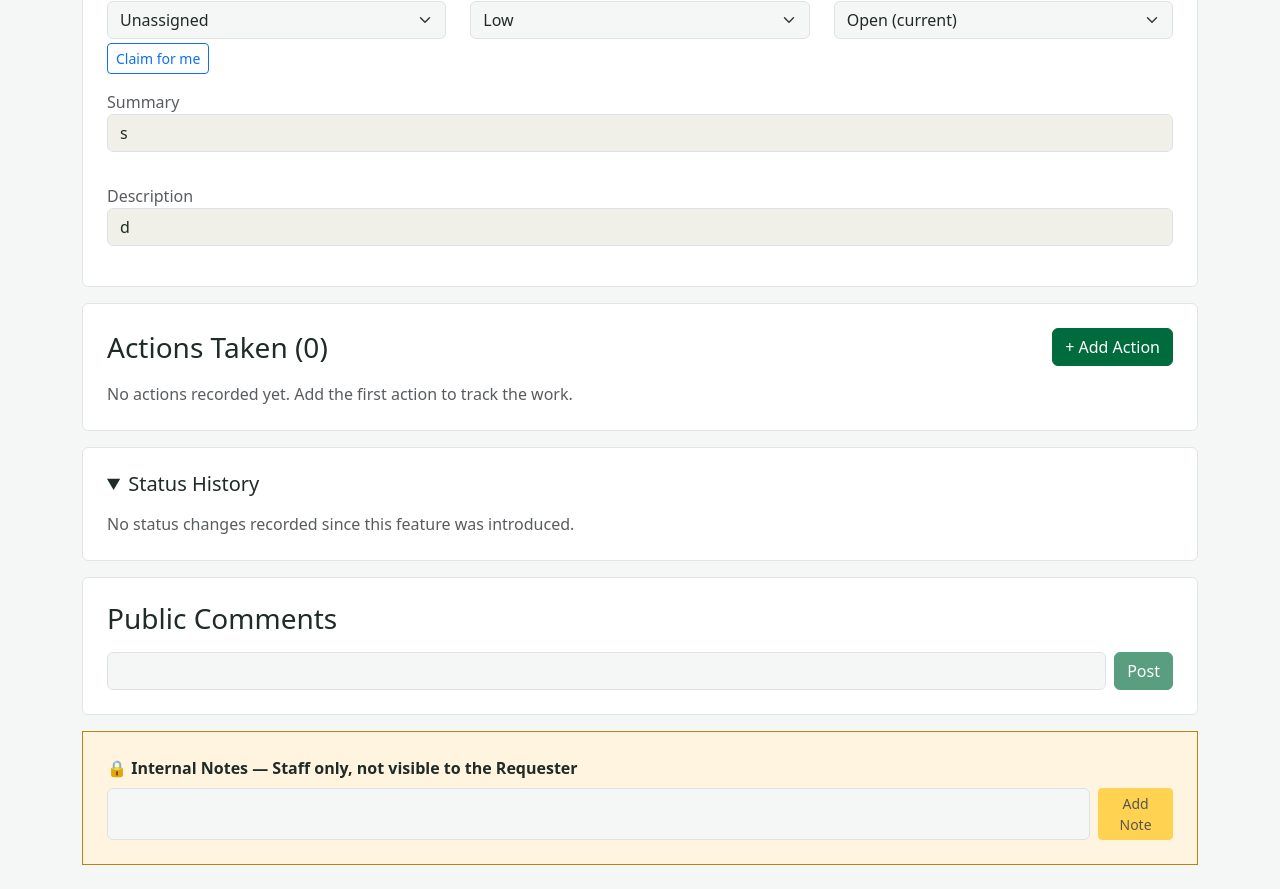
Scenario: Final hardening › sends a staff Internal Note once on a double click (FR-19)
(page scrolled)
In the field with test id "note-input": (599, 814) x1=107 y1=788 x2=1090 y2=840, type "Escalated to network team"
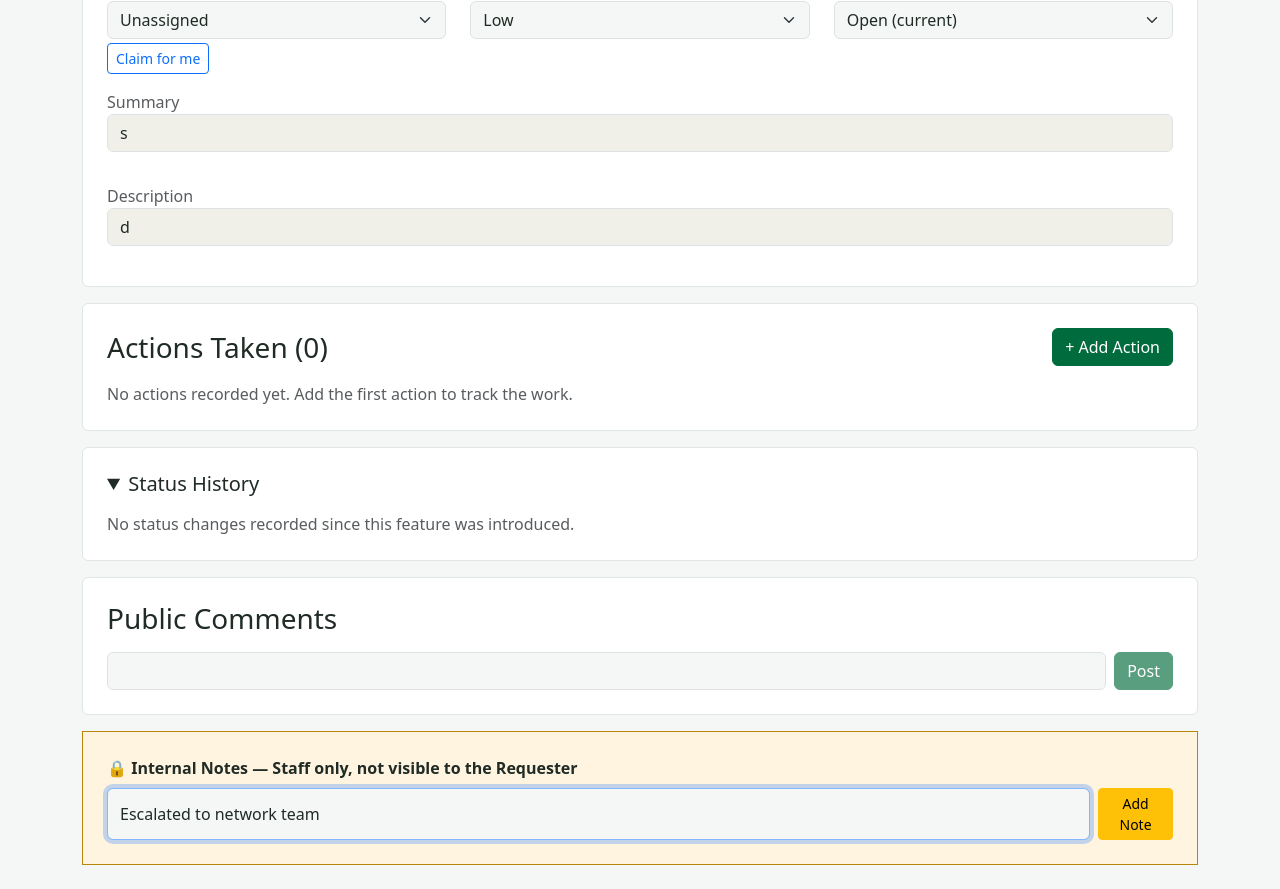
Double-click the button "Add Note": (1136, 814) x1=1098 y1=788 x2=1173 y2=840
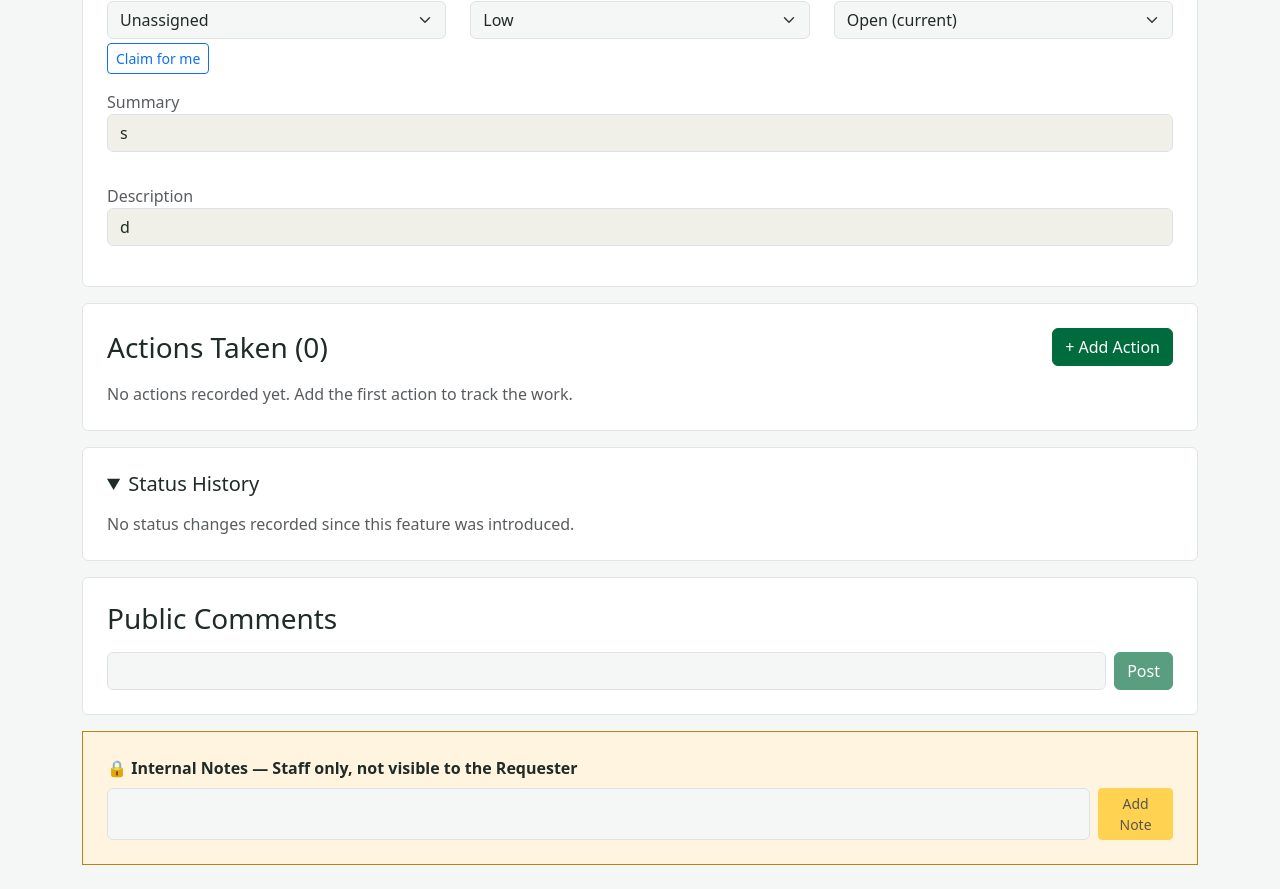
Result: the button named "Adding…" is disabled at x1=1098 y1=788 x2=1173 y2=840
Result: the field with test id "note-input" is empty at x1=107 y1=788 x2=1090 y2=840
